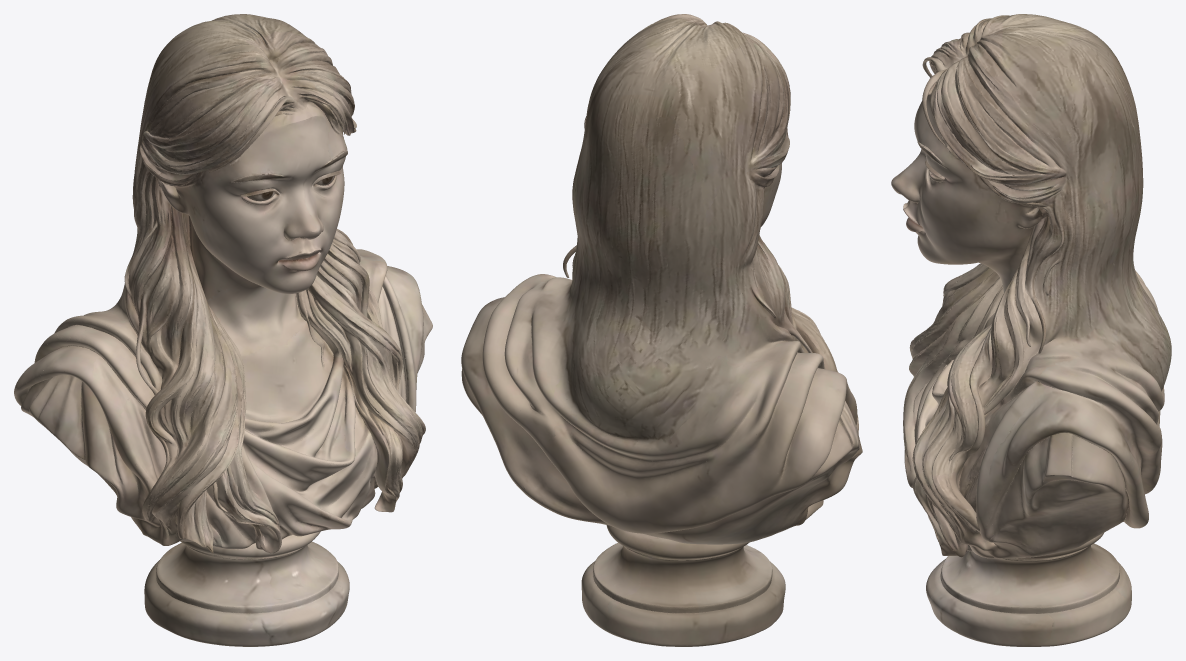
Rendered from 15_하태랑.compressed.glb.
3 views of the same model, side by side, from view 1: azimuth 30°, elevation 25°; view 2: azimuth 150°, elevation 25°; view 3: azimuth 270°, elevation 25° (orthographic).
Visible parts, largest first — view 1: model; view 2: model; view 3: model.
Boxes of the visible parts, left/top/right/bottom form: model: left=14, top=14, right=432, bottom=646; model: left=461, top=14, right=862, bottom=646; model: left=891, top=14, right=1171, bottom=646.
Size of the model in its own units: 1.33 by 1.9 by 0.8316.
Materials: 1 (1 with a texture image).
